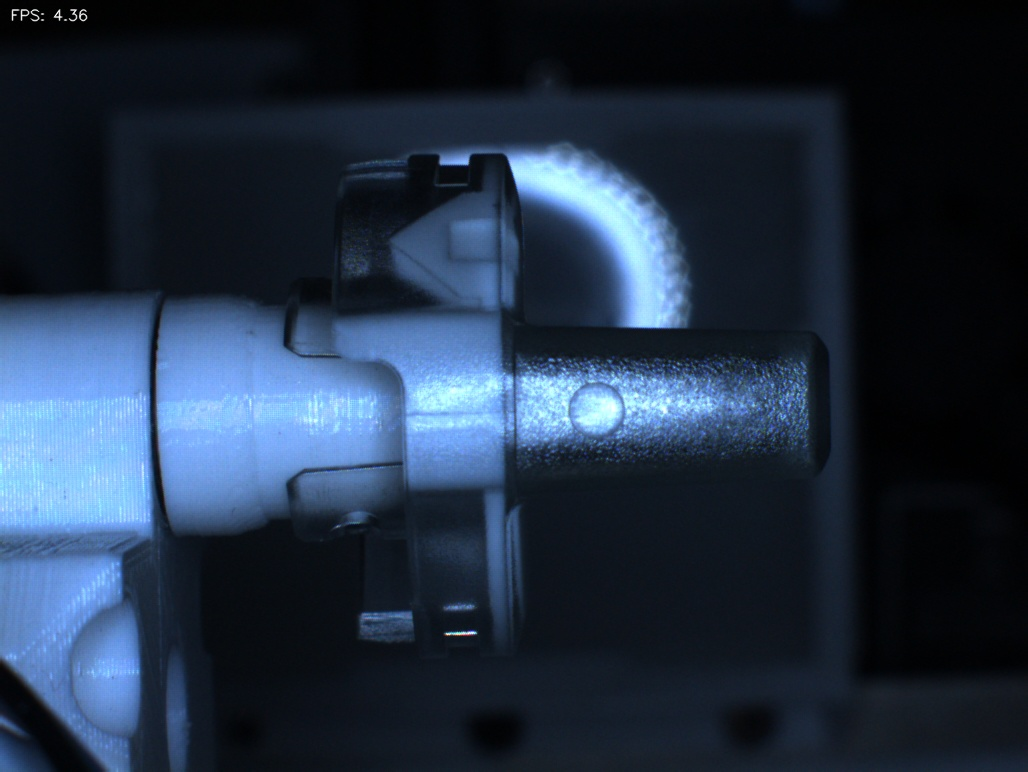DentOk: (362, 198, 449, 304)
